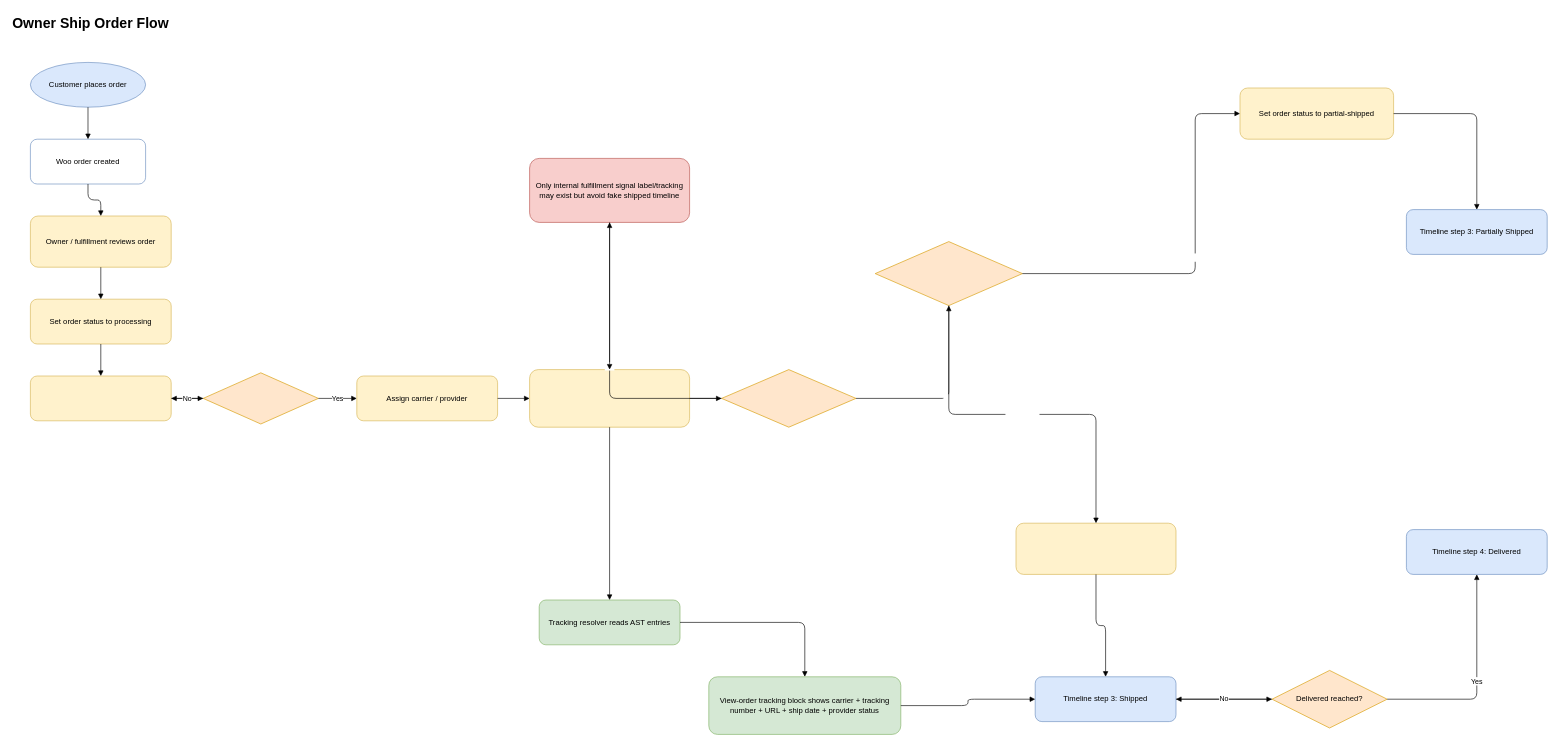
The diagram is 1558 pixels wide and 746 high, and some of its shapes have lost their labels. Here are the shapes that lost their labels. From the top down, the box of each, then its label:
(875, 241, 1022, 306): Whole order shipped or only part?
(30, 375, 171, 421): Prepare and pack items
(203, 372, 318, 424): Create shipment
(529, 369, 690, 427): Attach tracking number + URL via AST/provider
(721, 369, 856, 427): Carrier pickup / handoff happened?
(1015, 523, 1176, 574): Set order status to shipped or completed
